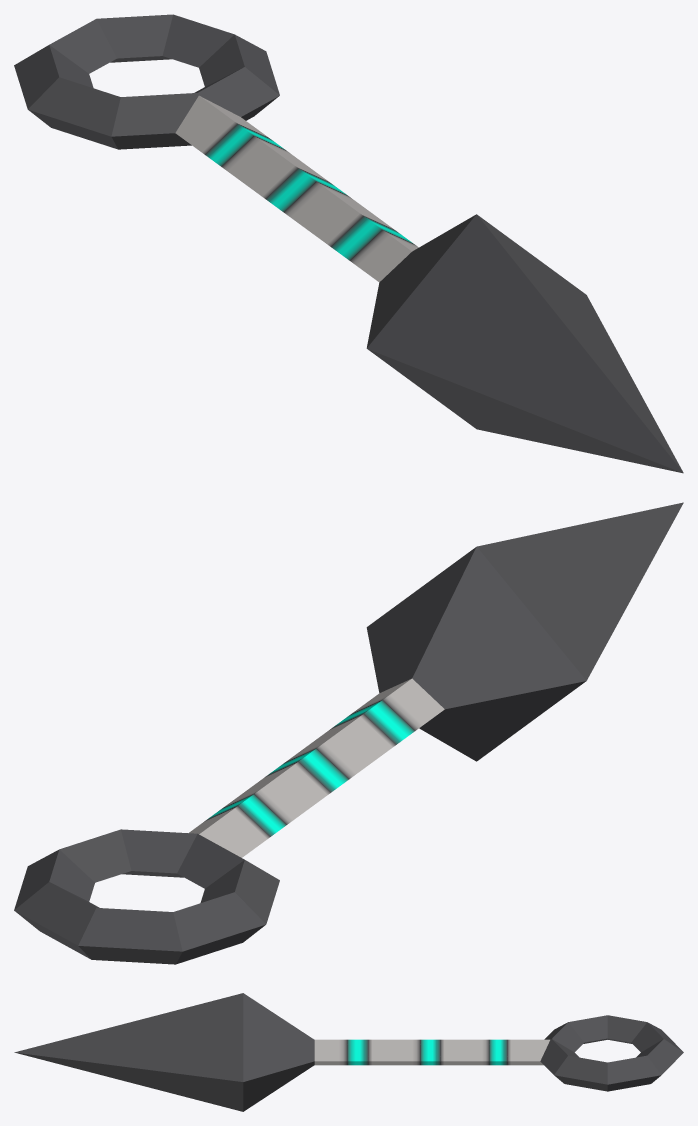
The model's file is SM_Wep_Shuriken_05.fbx.
3 views of the same model, one above another, from view 1: azimuth 30°, elevation 25°; view 2: azimuth 150°, elevation 25°; view 3: azimuth 270°, elevation 25° (orthographic). The views are drawn at different scales.
Visible parts, largest first — view 1: SM_Wep_Shuriken_05; view 2: SM_Wep_Shuriken_05; view 3: SM_Wep_Shuriken_05.
Boxes of the visible parts, x1,y1,x2,y2 form: SM_Wep_Shuriken_05: (14, 14, 683, 473); SM_Wep_Shuriken_05: (14, 502, 683, 964); SM_Wep_Shuriken_05: (14, 993, 683, 1111).
Size of the model in its own units: 6.61 by 5.69 by 29.05.
